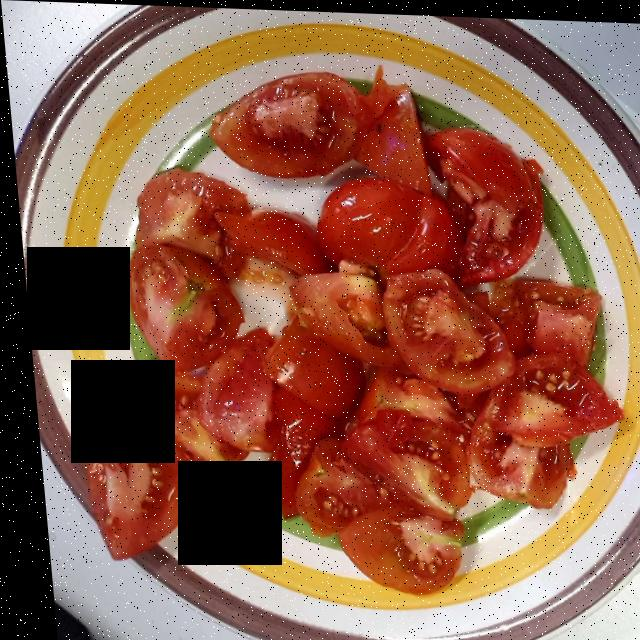tomato-raw: (70, 68, 616, 588)
